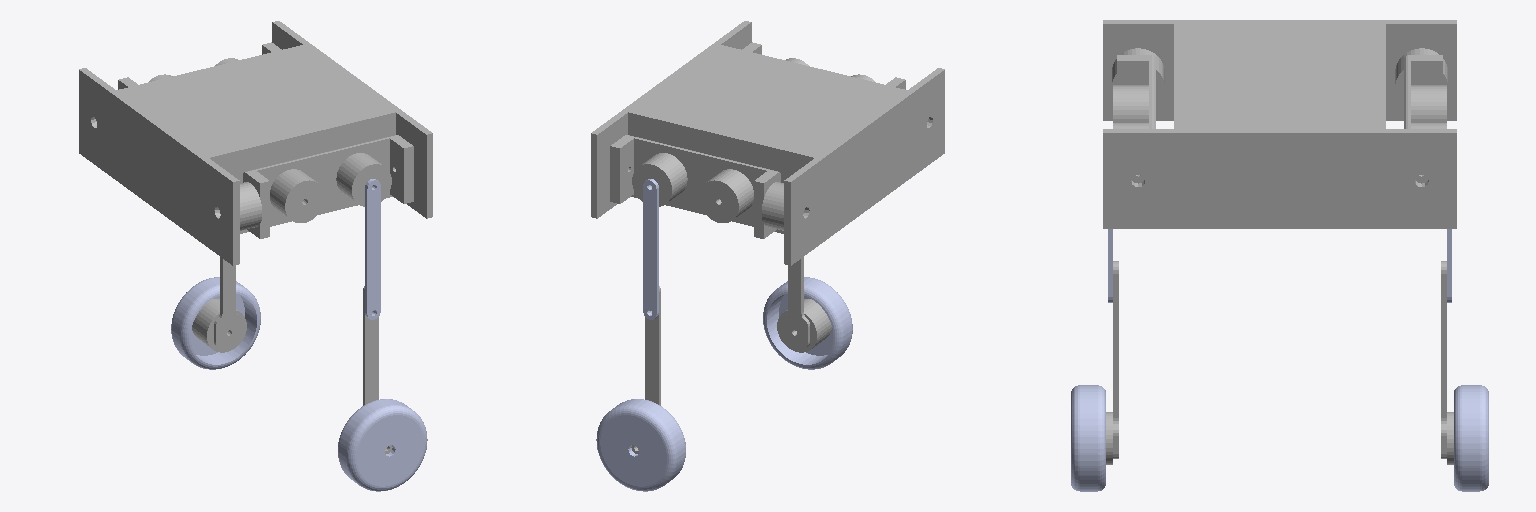
robot.urdf — 8DOFROBOT2:
<?xml version="1.0" encoding="utf-8"?>
<!-- This URDF was automatically created by SolidWorks to URDF Exporter! Originally created by Stephen Brawner (brawner@gmail.com) 
     Commit Version: v1.0.4-1-gcaeea21-dirty  Build Version: 1.6.9673.41765
     For more information, please see http://wiki.ros.org/sw_urdf_exporter -->
<robot name="8DOFROBOT2">
  <link name="base_link">
    <inertial>
      <origin xyz="0 0 0.03" rpy="0 0 0" />
      <mass value="0.5" />
      <inertia ixx="0.00092" ixy="0" ixz="0" iyy="0.00117" iyz="0" izz="0.00180" />
    </inertial>
    <visual>
      <origin xyz="0 0 0" rpy="0 0 0" />
      <geometry>
        <mesh filename="package://8DOFROBOT2/meshes/base_link.STL" />
      </geometry>
      <material name="">
        <color rgba="0.752941176470588 0.752941176470588 0.752941176470588 1" />
      </material>
    </visual>
    <collision>
      <origin xyz="0 0 0" rpy="0 0 0" />
      <geometry>
        <mesh filename="package://8DOFROBOT2/meshes/base_link.STL" />
      </geometry>
    </collision>
  </link>
  <link name="left_hip_Link">
    <inertial>
      <origin xyz="0.05 0 0" rpy="0 0 0" />
      <mass value="0.2" />
      <inertia ixx="0.00003" ixy="0" ixz="0" iyy="0.00027" iyz="0" izz="0.00026" />
    </inertial>
    <visual>
      <origin xyz="0 0 0" rpy="0 0 0" />
      <geometry>
        <mesh filename="package://8DOFROBOT2/meshes/left_hip_Link.STL" />
      </geometry>
      <material name="">
        <color rgba="0.752941176470588 0.752941176470588 0.752941176470588 1" />
      </material>
    </visual>
    <collision>
      <origin xyz="0 0 0" rpy="0 0 0" />
      <geometry>
        <mesh filename="package://8DOFROBOT2/meshes/left_hip_Link.STL" />
      </geometry>
    </collision>
  </link>
  <joint name="left_hip_joint" type="revolute">
    <origin xyz="-0.0462500000000197 0.0787267604552256 0.0299999999999798" rpy="0 0 0" />
    <parent link="base_link" />
    <child link="left_hip_Link" />
    <axis xyz="1 0 0" />
    <limit lower="-0.9075712110370514" upper="0.9075712110370514" effort="0" velocity="0" />
  </joint>
  <link name="left_thigh_link">
    <inertial>
      <origin xyz="0 0 -0.04" rpy="0 0 0" />
      <mass value="0.1" />
      <inertia ixx="0.00008" ixy="0" ixz="0" iyy="0.00008" iyz="0" izz="0" />
    </inertial>
    <visual>
      <origin xyz="0 0 0" rpy="0 0 0" />
      <geometry>
        <mesh filename="package://8DOFROBOT2/meshes/left_thigh_link.STL" />
      </geometry>
      <material name="">
        <color rgba="0.792156862745098 0.819607843137255 0.933333333333333 1" />
      </material>
    </visual>
    <collision>
      <origin xyz="0 0 0" rpy="0 0 0" />
      <geometry>
        <mesh filename="package://8DOFROBOT2/meshes/left_thigh_link.STL" />
      </geometry>
    </collision>
  </link>
  <joint name="left_thigh_joint" type="revolute">
    <origin xyz="0.0774767604552631 0.0167732395447309 0" rpy="0 0 0" />
    <parent link="left_hip_Link" />
    <child link="left_thigh_link" />
    <axis xyz="0 1 0" />
    <limit lower="-0.8726646259971648" upper="1.3089969389957472" effort="0" velocity="0" />
  </joint>
  <link name="left_shank_link">
    <inertial>
      <origin xyz="0 0.01 -0.08" rpy="0 0 0" />
      <mass value="0.15" />
      <inertia ixx="0.00010" ixy="0" ixz="0" iyy="0.00010" iyz="0.00001" izz="0.00001" />
    </inertial>
    <visual>
      <origin xyz="0 0 0" rpy="0 0 0" />
      <geometry>
        <mesh filename="package://8DOFROBOT2/meshes/left_shank_link.STL" />
      </geometry>
      <material name="">
        <color rgba="0.752941176470588 0.752941176470588 0.752941176470588 1" />
      </material>
    </visual>
    <collision>
      <origin xyz="0 0 0" rpy="0 0 0" />
      <geometry>
        <mesh filename="package://8DOFROBOT2/meshes/left_shank_link.STL" />
      </geometry>
    </collision>
  </link>
  <joint name="left_knee_joint " type="revolute">
    <origin xyz="0 -0.00300000000000789 -0.0900000000000087" rpy="0 0 0" />
    <parent link="left_thigh_link" />
    <child link="left_shank_link" />
    <axis xyz="0 1 0" />
    <limit lower="-2.792526803190927" upper="0" effort="0" velocity="0" />
  </joint>
  <link name="left_wheel_link">
    <inertial>
      <origin xyz="0 -0.01 0" rpy="0 0 0" />
      <mass value="0.1" />
      <inertia ixx="0.00003" ixy="0" ixz="0" iyy="0.00006" iyz="0" izz="0.00003" />
    </inertial>
    <visual>
      <origin xyz="0 0 0" rpy="0 0 0" />
      <geometry>
        <mesh filename="package://8DOFROBOT2/meshes/left_wheel_link.STL" />
      </geometry>
      <material name="">
        <color rgba="0.792156862745098 0.819607843137255 0.933333333333333 1" />
      </material>
    </visual>
    <collision>
      <origin xyz="0 0 0" rpy="0 0 0" />
      <geometry>
        <mesh filename="package://8DOFROBOT2/meshes/left_wheel_link.STL" />
      </geometry>
    </collision>
  </link>
  <joint name="left_wheel_joint" type="continuous">
    <origin xyz="0.00127323954474146 0.0235000000000081 -0.0926849666847982" rpy="0 0 0" />
    <parent link="left_shank_link" />
    <child link="left_wheel_link" />
    <axis xyz="0 1 0" />
  </joint>
  <link name="right_hip_link">
    <inertial>
      <origin xyz="0.05 0 0" rpy="0 0 0" />
      <mass value="0.2" />
      <inertia ixx="0.00003" ixy="0" ixz="0" iyy="0.00027" iyz="0" izz="0.00026" />
    </inertial>
    <visual>
      <origin xyz="0 0 0" rpy="0 0 0" />
      <geometry>
        <mesh filename="package://8DOFROBOT2/meshes/right_hip_link.STL" />
      </geometry>
      <material name="">
        <color rgba="0.752941176470588 0.752941176470588 0.752941176470588 1" />
      </material>
    </visual>
    <collision>
      <origin xyz="0 0 0" rpy="0 0 0" />
      <geometry>
        <mesh filename="package://8DOFROBOT2/meshes/right_hip_link.STL" />
      </geometry>
    </collision>
  </link>
  <joint name="right_hip_joint" type="revolute">
    <origin xyz="-0.0462499999999992 -0.0787267604552557 0.0300000000000089" rpy="0 0 0" />
    <parent link="base_link" />
    <child link="right_hip_link" />
    <axis xyz="1 0 0" />
    <limit lower="-0.9075712110370514" upper="0.9075712110370514" effort="0" velocity="0" />
  </joint>
  <link name="right_thigh_link">
    <inertial>
      <origin xyz="0 0 -0.04" rpy="0 0 0" />
      <mass value="0.1" />
      <inertia ixx="0.00008" ixy="0" ixz="0" iyy="0.00008" iyz="0" izz="0" />
    </inertial>
    <visual>
      <origin xyz="0 0 0" rpy="0 0 0" />
      <geometry>
        <mesh filename="package://8DOFROBOT2/meshes/right_thigh_link.STL" />
      </geometry>
      <material name="">
        <color rgba="0.792156862745098 0.819607843137255 0.933333333333333 1" />
      </material>
    </visual>
    <collision>
      <origin xyz="0 0 0" rpy="0 0 0" />
      <geometry>
        <mesh filename="package://8DOFROBOT2/meshes/right_thigh_link.STL" />
      </geometry>
    </collision>
  </link>
  <joint name="right_thigh_joint" type="revolute">
    <origin xyz="0.0774767604552646 -0.0167732395447355 0" rpy="0 0 0" />
    <parent link="right_hip_link" />
    <child link="right_thigh_link" />
    <axis xyz="0 1 0" />
    <limit lower="-0.8726646259971648" upper="1.3089969389957472" effort="0" velocity="0" />
  </joint>
  <link name="right_shank_link">
    <inertial>
      <origin xyz="0 -0.01 -0.08" rpy="0 0 0" />
      <mass value="0.15" />
      <inertia ixx="0.00010" ixy="0" ixz="0" iyy="0.00010" iyz="-0.00001" izz="0.00001" />
    </inertial>
    <visual>
      <origin xyz="0 0 0" rpy="0 0 0" />
      <geometry>
        <mesh filename="package://8DOFROBOT2/meshes/right_shank_link.STL" />
      </geometry>
      <material name="">
        <color rgba="0.752941176470588 0.752941176470588 0.752941176470588 1" />
      </material>
    </visual>
    <collision>
      <origin xyz="0 0 0" rpy="0 0 0" />
      <geometry>
        <mesh filename="package://8DOFROBOT2/meshes/right_shank_link.STL" />
      </geometry>
    </collision>
  </link>
  <joint name="right_knee_joint" type="revolute">
    <origin xyz="0 0.00299999999999345 -0.0900000000000029" rpy="0 0 0" />
    <parent link="right_thigh_link" />
    <child link="right_shank_link" />
    <axis xyz="0 1 0" />
    <limit lower="-2.792526803190927" upper="0" effort="0" velocity="0" />
  </joint>
  <link name="right_wheel_link">
    <inertial>
      <origin xyz="0 0.01 0" rpy="0 0 0" />
      <mass value="0.1" />
      <inertia ixx="0.00003" ixy="0" ixz="0" iyy="0.00006" iyz="0" izz="0.00003" />
    </inertial>
    <visual>
      <origin xyz="0 0 0" rpy="0 0 0" />
      <geometry>
        <mesh filename="package://8DOFROBOT2/meshes/right_wheel_link.STL" />
      </geometry>
      <material name="">
        <color rgba="0.792156862745098 0.819607843137255 0.933333333333333 1" />
      </material>
    </visual>
    <collision>
      <origin xyz="0 0 0" rpy="0 0 0" />
      <geometry>
        <mesh filename="package://8DOFROBOT2/meshes/right_wheel_link.STL" />
      </geometry>
    </collision>
  </link>
  <joint name="right_wheel_joint" type="continuous">
    <origin xyz="0.00127323954474989 -0.0234999999999859 -0.0926849666847985" rpy="0 0 0" />
    <parent link="right_shank_link" />
    <child link="right_wheel_link" />
    <axis xyz="0 1 0" />
  </joint>
</robot>

--- What the picture shows (computed from the rendered views, not written in the file) ---
3 views of the same robot in one strip: view 1: azimuth 30°, elevation 25°; view 2: azimuth 150°, elevation 25°; view 3: azimuth 270°, elevation 25° (orthographic).
Robot: 8DOFROBOT2 — 9 links, 8 joints (6 revolute, 2 continuous); root link base_link; default pose: every joint at zero.
Links seen in each view (by area): view 1: base_link, right_hip_link, right_wheel_link, left_wheel_link, left_shank_link, right_thigh_link, right_shank_link; view 2: base_link, left_hip_Link, left_wheel_link, right_wheel_link, right_shank_link, left_thigh_link, left_shank_link; view 3: base_link, left_wheel_link, right_wheel_link, left_hip_Link, right_hip_link, left_shank_link, right_shank_link.
Boxes of the visible links, x1=… form: base_link: x1=79, y1=21, x2=432, y2=265; right_hip_link: x1=243, y1=135, x2=413, y2=238; right_wheel_link: x1=338, y1=399, x2=427, y2=491; left_wheel_link: x1=171, y1=277, x2=260, y2=369; left_shank_link: x1=192, y1=257, x2=246, y2=352; right_thigh_link: x1=365, y1=179, x2=380, y2=319; right_shank_link: x1=363, y1=286, x2=392, y2=453; base_link: x1=591, y1=21, x2=944, y2=265; left_hip_Link: x1=610, y1=135, x2=780, y2=238; left_wheel_link: x1=596, y1=399, x2=685, y2=491; right_wheel_link: x1=763, y1=277, x2=852, y2=369; right_shank_link: x1=777, y1=257, x2=831, y2=352; left_thigh_link: x1=643, y1=179, x2=658, y2=319; left_shank_link: x1=631, y1=286, x2=660, y2=453; base_link: x1=1103, y1=20, x2=1456, y2=228; left_wheel_link: x1=1454, y1=385, x2=1488, y2=491; right_wheel_link: x1=1071, y1=385, x2=1105, y2=491; left_hip_Link: x1=1404, y1=55, x2=1446, y2=183; right_hip_link: x1=1113, y1=55, x2=1155, y2=183; left_shank_link: x1=1441, y1=261, x2=1453, y2=464; right_shank_link: x1=1106, y1=261, x2=1118, y2=464.
Bounding box of the posed robot: 0.15 × 0.236 × 0.2401 m (x, y, z).
9 mesh visuals loaded from 9 distinct referenced files (9 binary STL).
